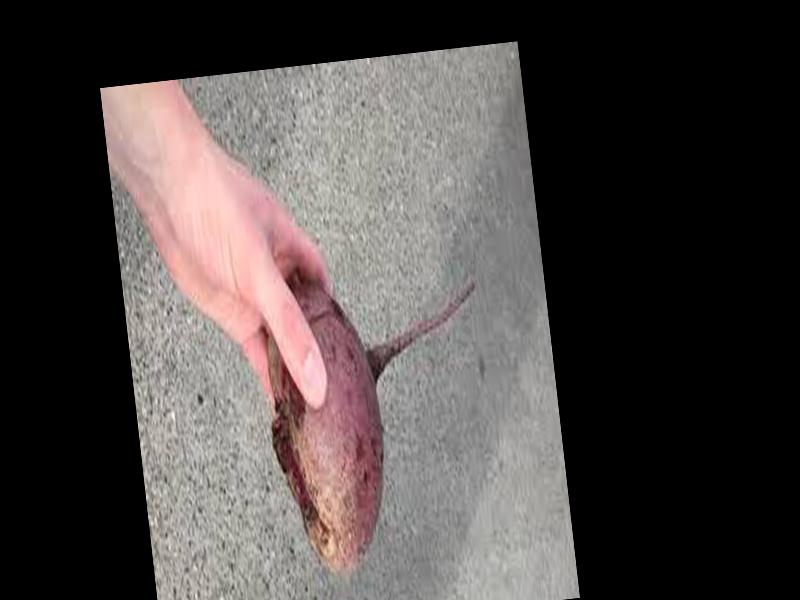Beet: (256, 271, 504, 577)
